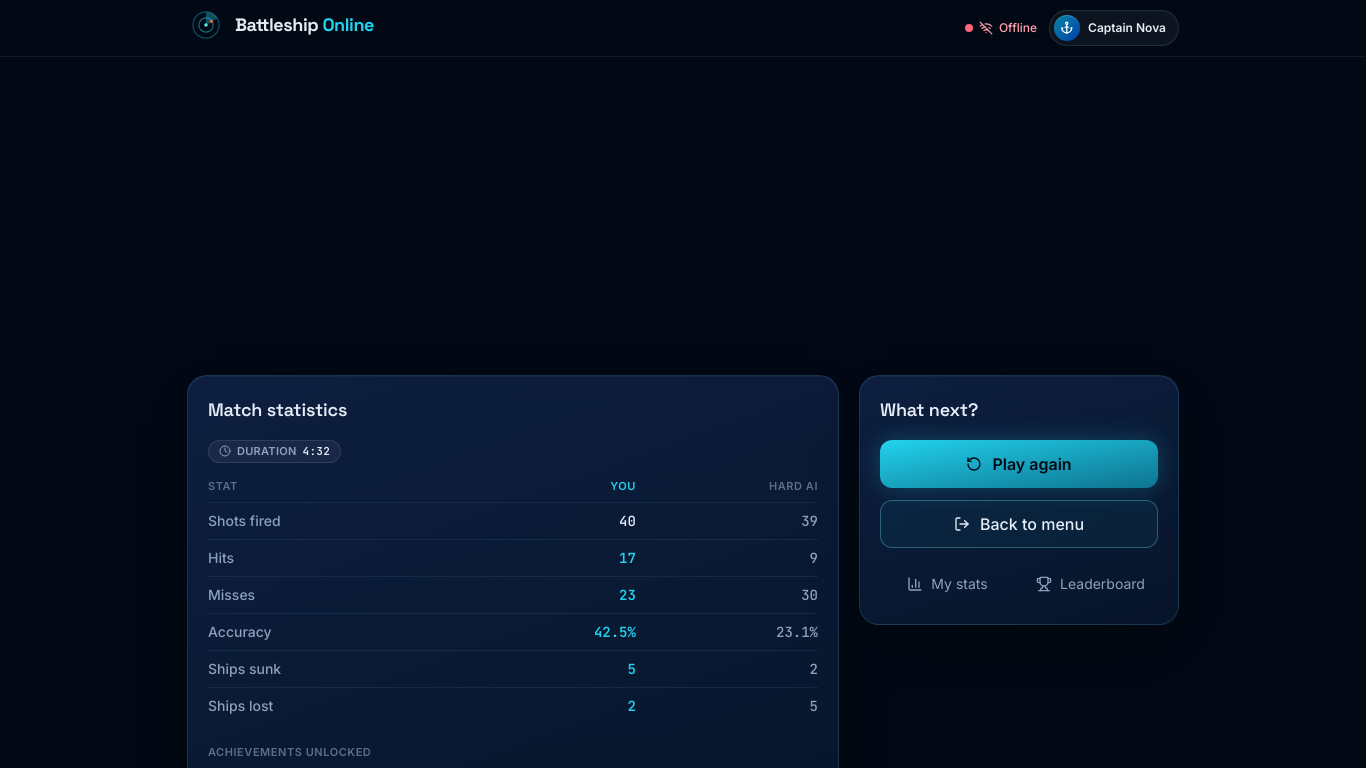
Scenario: ResultsScreen › shows "Play again" for practice and falls back when the server says the opponent left
The width and height of the screenshot is (1366, 768).
Click the button with test id "rematch-button".
click(1019, 464)  # box [880,440,1158,488]
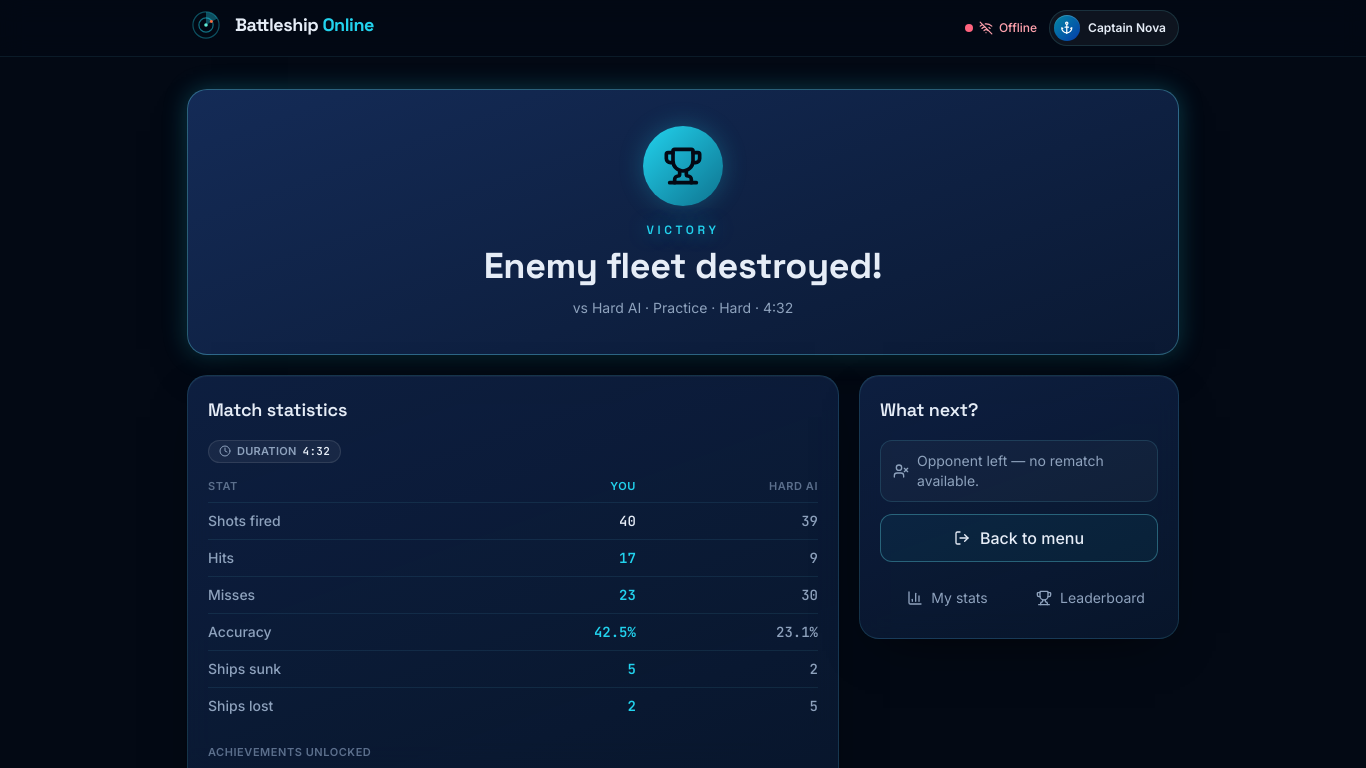
Now the element with test id "opponent-left" is shown, box [880,440,1158,502]
